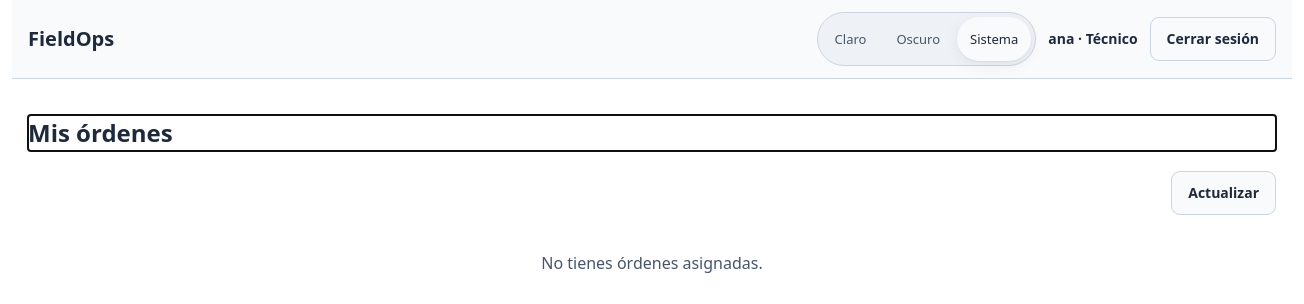
Test: Flujos de sesión (G3 remediación) › I-004/FR-005: logout con 500 igualmente vuelve al login (best-effort)
This screenshot has width=1304, height=304.
Expected: the text "ana · Técnico" is shown, 1048,29 -> 1138,49
Click the button "Cerrar sesión" at (1213, 39), box 1150,17 -> 1276,61
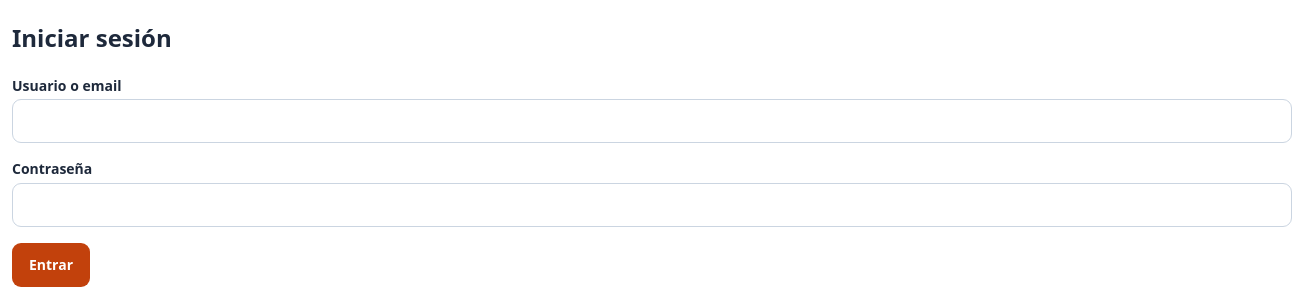
Now the heading "Iniciar sesión" is shown, box 12,21 -> 172,54
